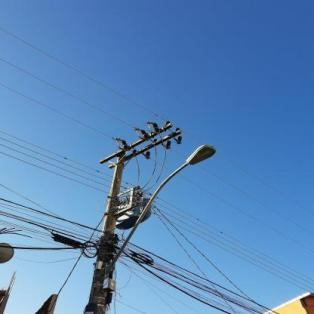Poste: (76, 144, 129, 314)
